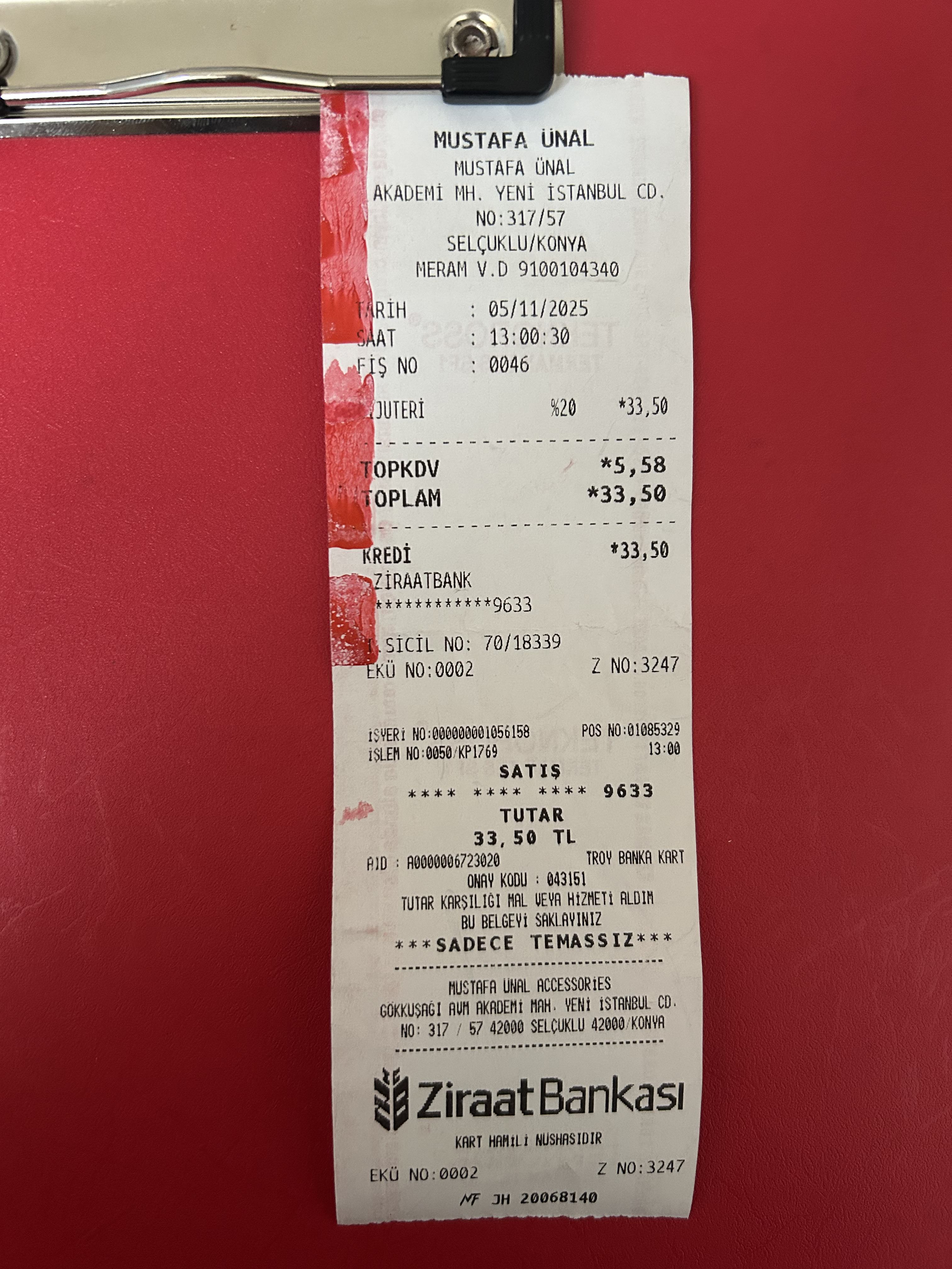date: (482, 294, 595, 321)
price: (599, 475, 676, 510)
workplace: (373, 124, 666, 256)
